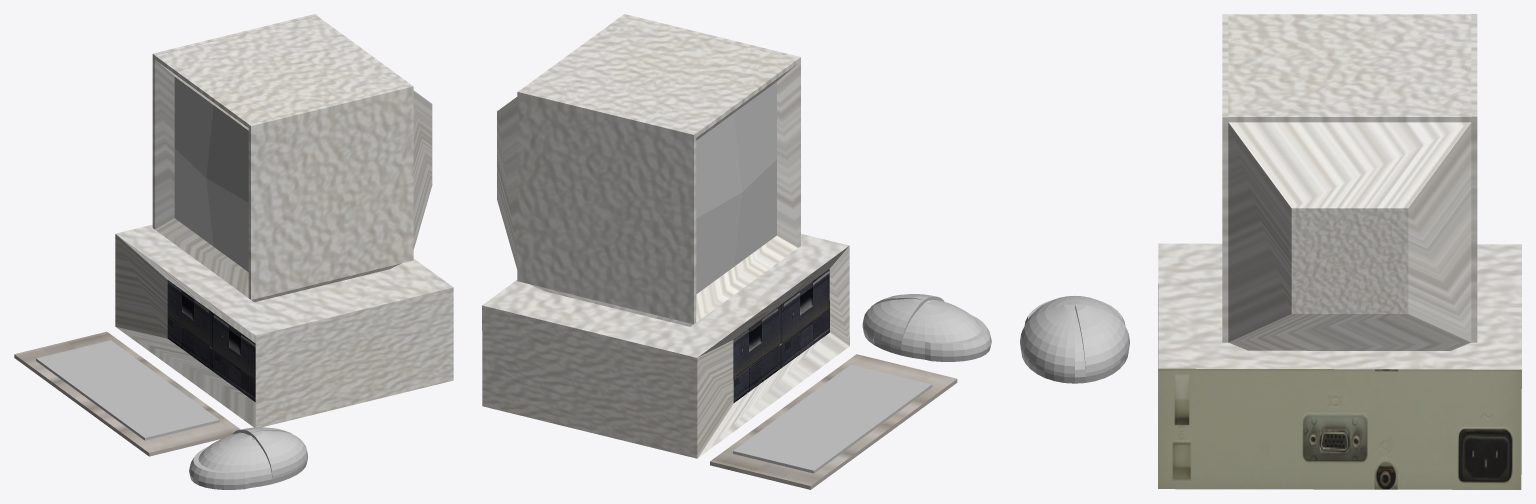
File: pccool.fbx
3 renders of one model, left to right at view 1: azimuth 30°, elevation 25°; view 2: azimuth 150°, elevation 25°; view 3: azimuth 270°, elevation 25°, orthographic. The views are drawn at different scales.
Visible parts, largest first — view 1: Cube.003; view 2: Cube.003; view 3: Cube.003.
Boxes of the visible parts, x1,y1,x2,y2 form: Cube.003: (14,14,453,489); Cube.003: (482,14,991,489); Cube.003: (1020,14,1521,489).
Bounding box in the file's own units: 745 × 619 × 756.
